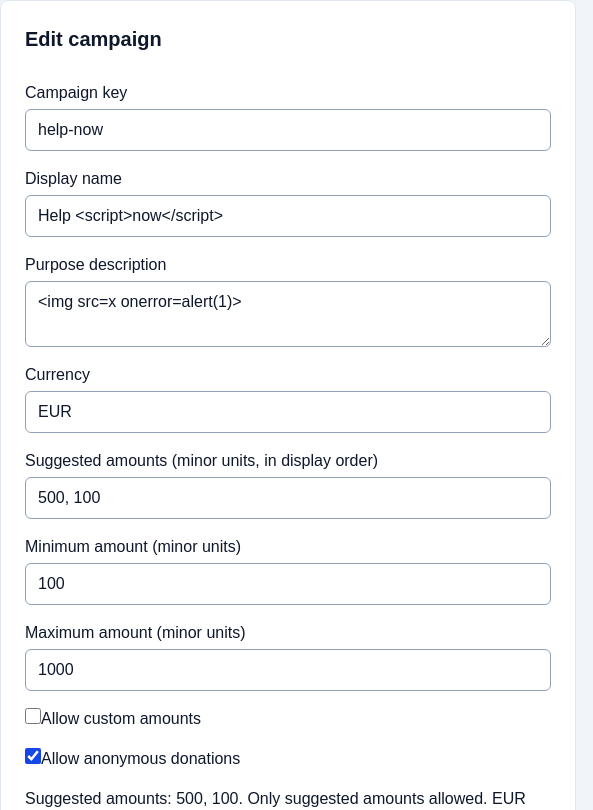
it: rejects invalid suggested amounts 100, 100 before sending
This screenshot has width=593, height=810.
Replace the text in the field labelled "Suggested amounts (minor units, in display order)" with "100, 100": point(288, 498) [25,477,551,519]
(page scrolled)
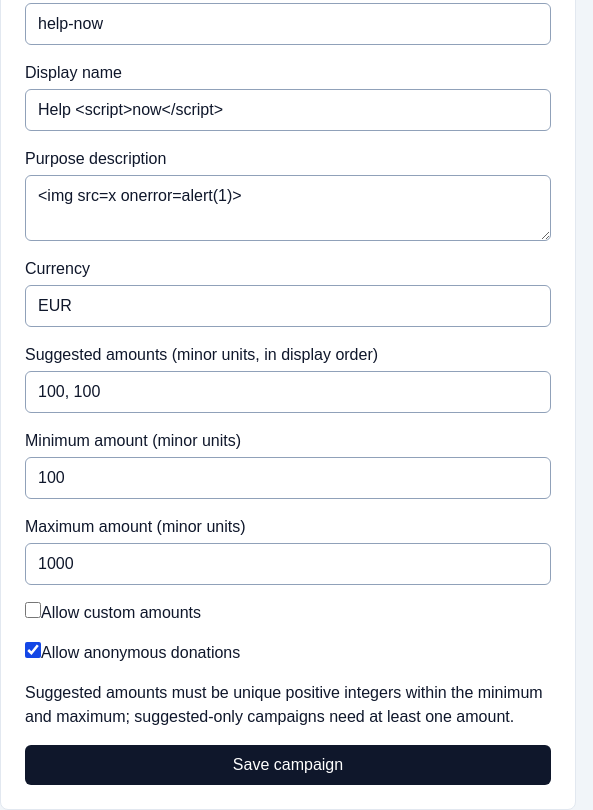
Click the button "Save campaign": point(288, 765) [25,745,551,785]
(page scrolled)
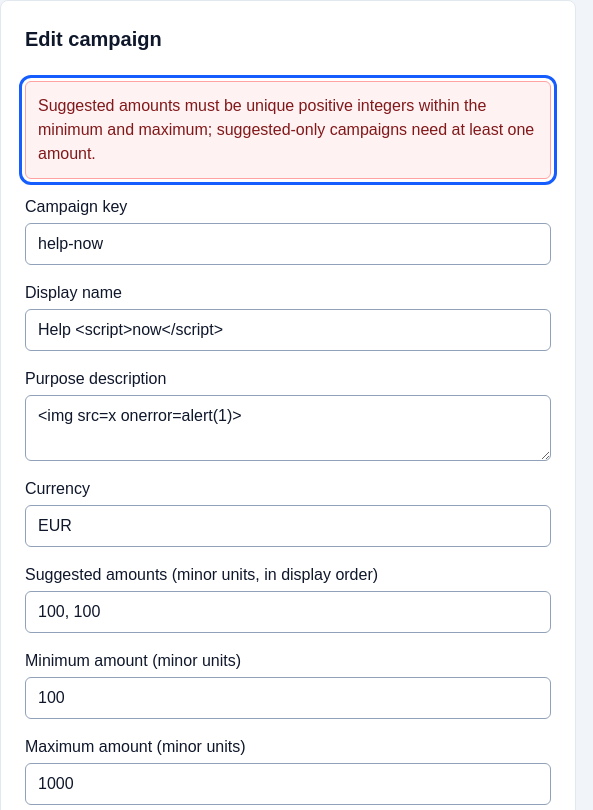
Check: the message shows "amount", box [38,97,534,162]
